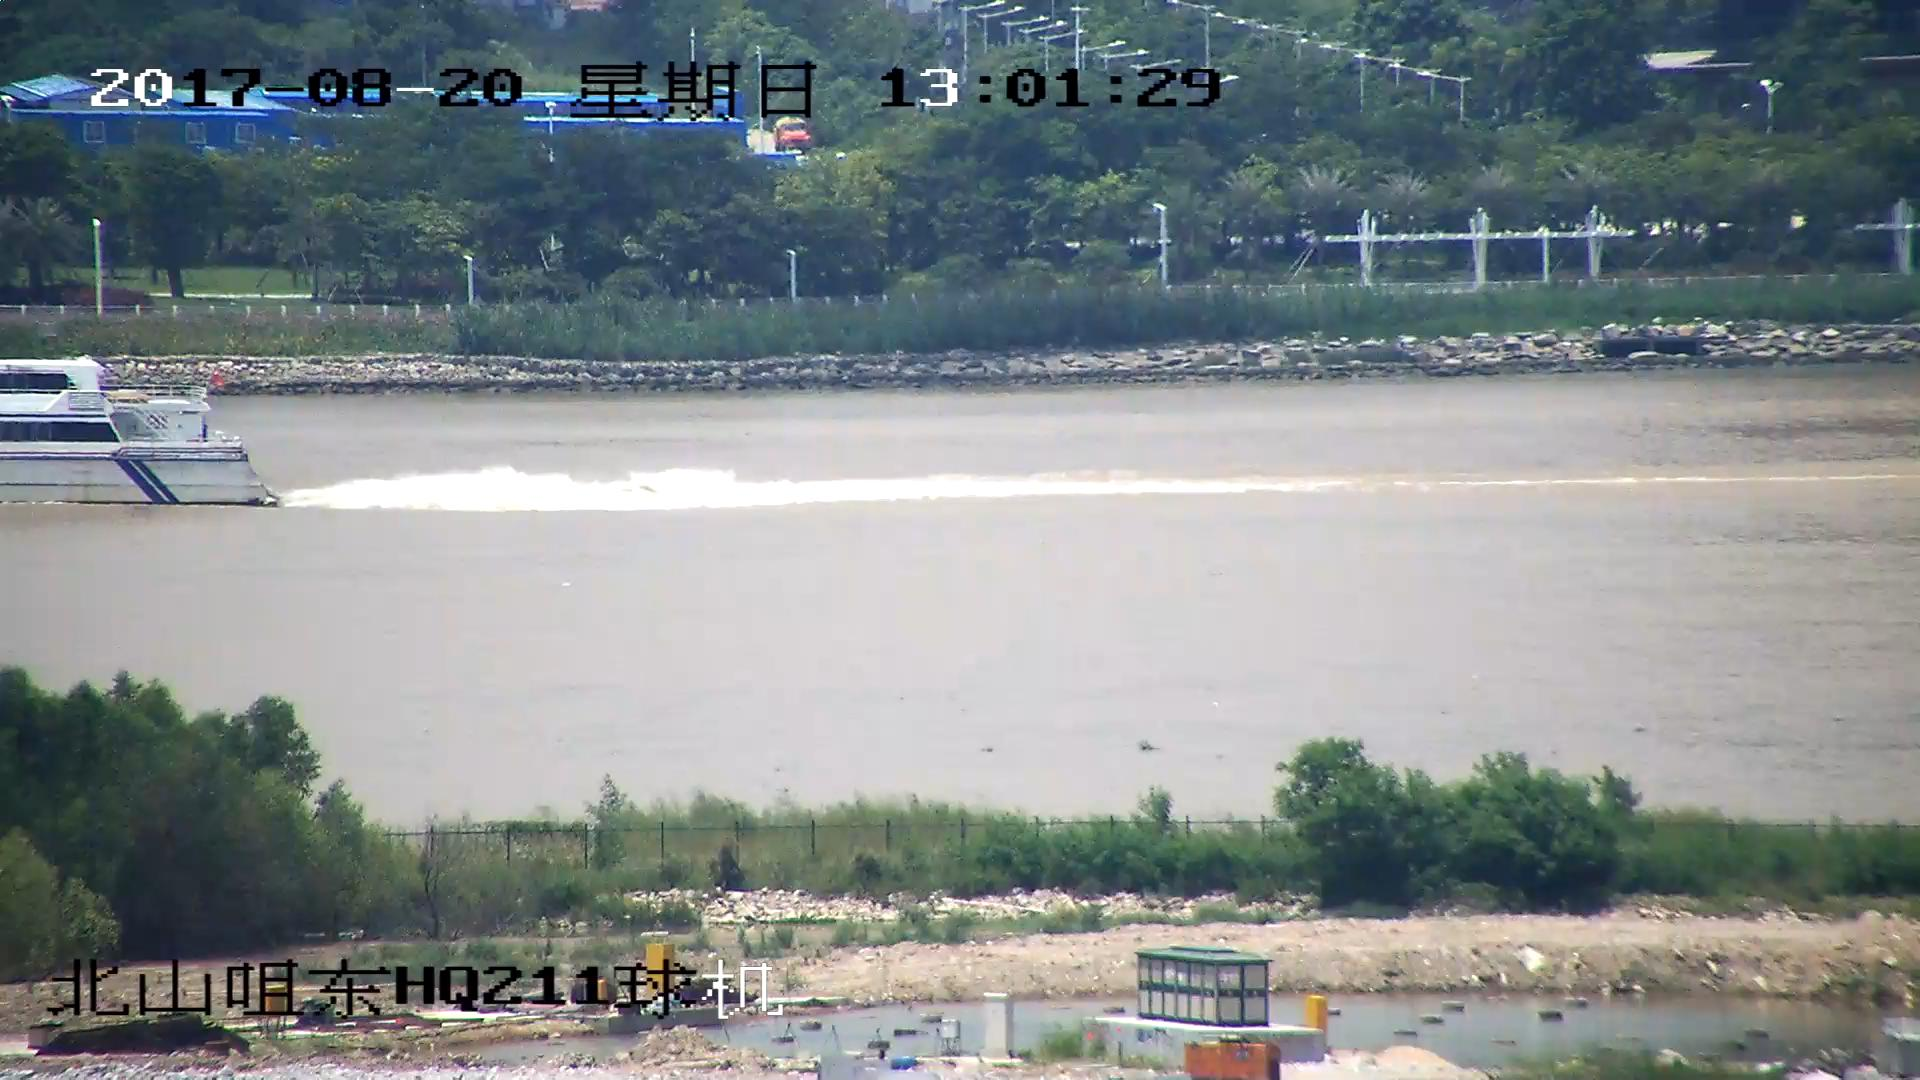passenger ship: (1, 347, 273, 509)
